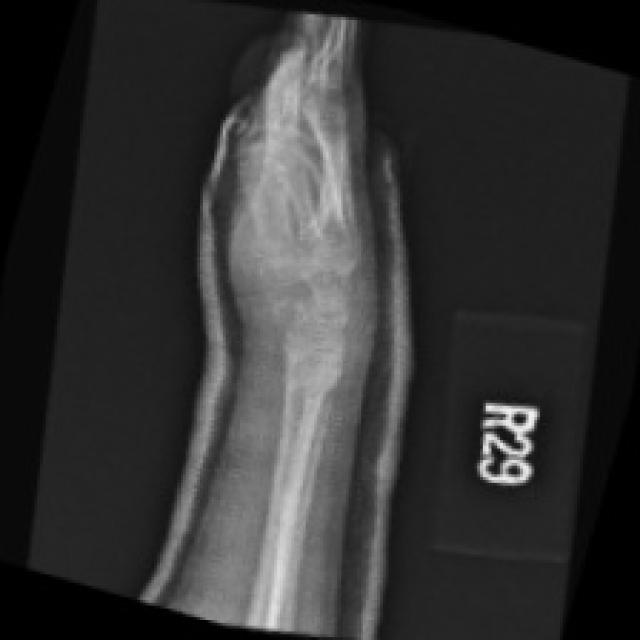fracture: (236, 228, 372, 424)
